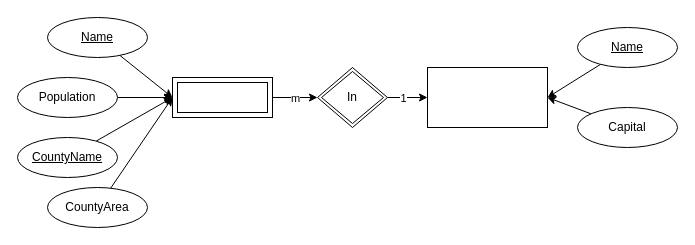
Image size: 695x245. Some labels were removed from this diagram. The box of each missing label's shape, as (x1, y1, x2, y2) in pixels:
City: (172, 76, 272, 118)
State: (426, 66, 548, 128)
